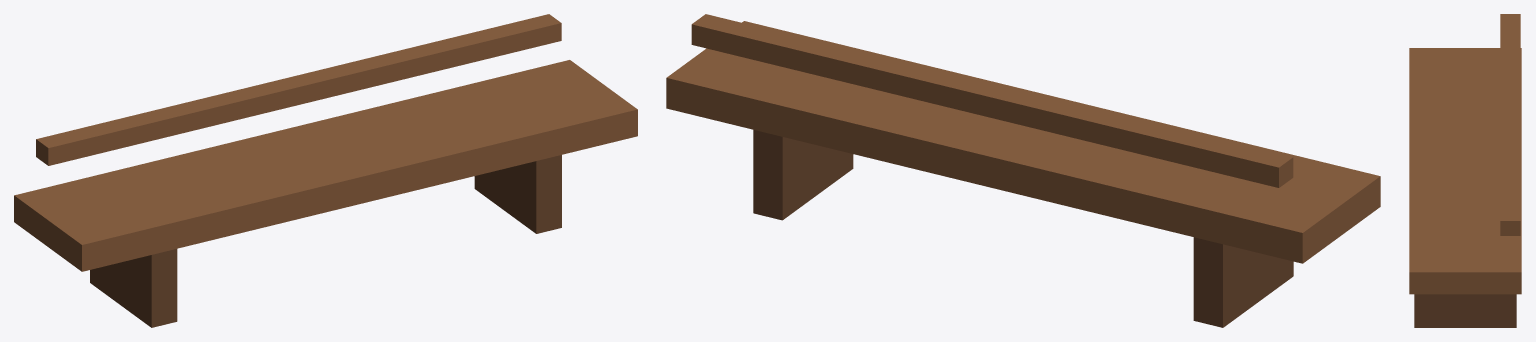
File: bench.glb
The picture shows the model from 3 angles, left to right: view 1: azimuth 30°, elevation 25°; view 2: azimuth 150°, elevation 25°; view 3: azimuth 270°, elevation 25°; orthographic projection. The views are drawn at different scales.
Parts seen in each view (by area): view 1: Bench; view 2: Bench; view 3: Bench.
Boxes of the visible parts, x1,y1,x2,y2 form: Bench: [14, 14, 637, 327]; Bench: [666, 14, 1380, 327]; Bench: [1409, 14, 1521, 327].
Bounding box in the file's own units: 2.6 × 0.69 × 0.55.
